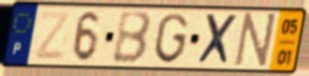6: (71, 9, 102, 64)
B: (110, 10, 154, 66)
G: (152, 12, 191, 66)
N: (231, 11, 280, 71)
X: (195, 13, 240, 68)
Z: (32, 10, 73, 63)
